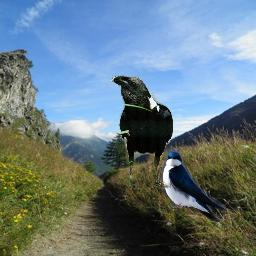Crow: (110, 75, 173, 189)
Swallow: (161, 150, 227, 222)
